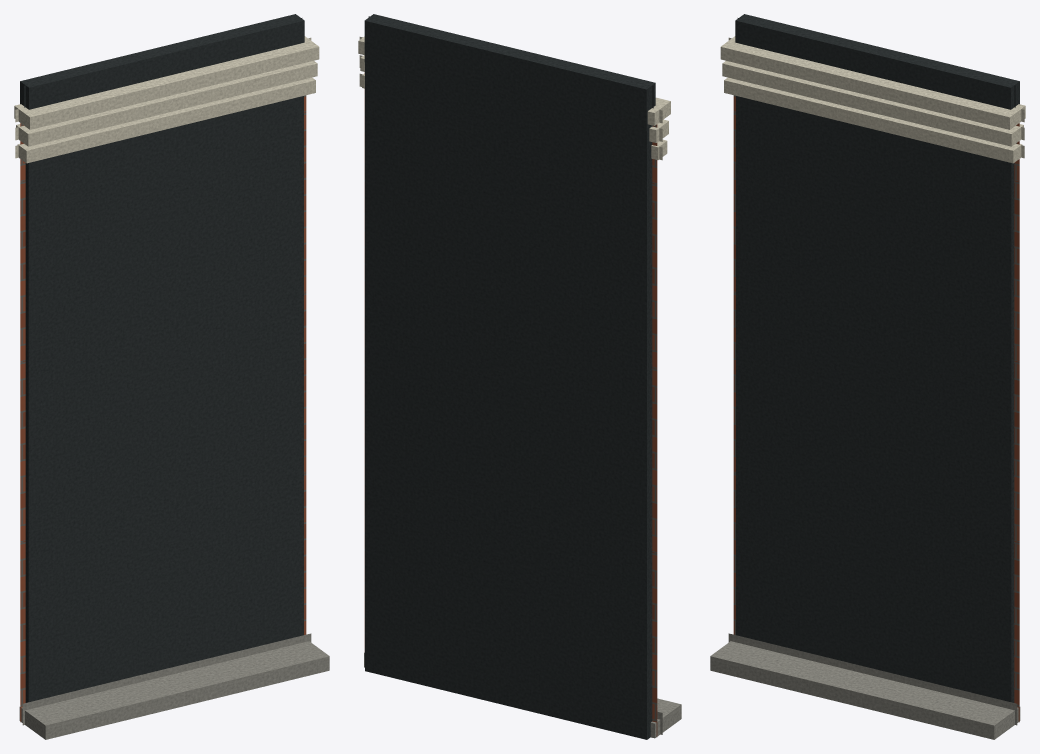
File: WHSE11_lod2.glb
3 views of the same model, side by side, from view 1: azimuth 30°, elevation 25°; view 2: azimuth 150°, elevation 25°; view 3: azimuth 330°, elevation 25° (orthographic). The views are drawn at different scales.
Parts seen in each view (by area): view 1: WHSE11_FRONT_LOD2; view 2: WHSE11_FRONT_LOD2; view 3: WHSE11_FRONT_LOD2.
Part boxes in pixels (x1,y1,x2,y2): WHSE11_FRONT_LOD2: [14, 14, 329, 739]; WHSE11_FRONT_LOD2: [358, 14, 681, 739]; WHSE11_FRONT_LOD2: [710, 14, 1025, 739].
Bounding box in the file's own units: 3.44 × 7.05 × 0.6.
5 materials, 5 textured.
